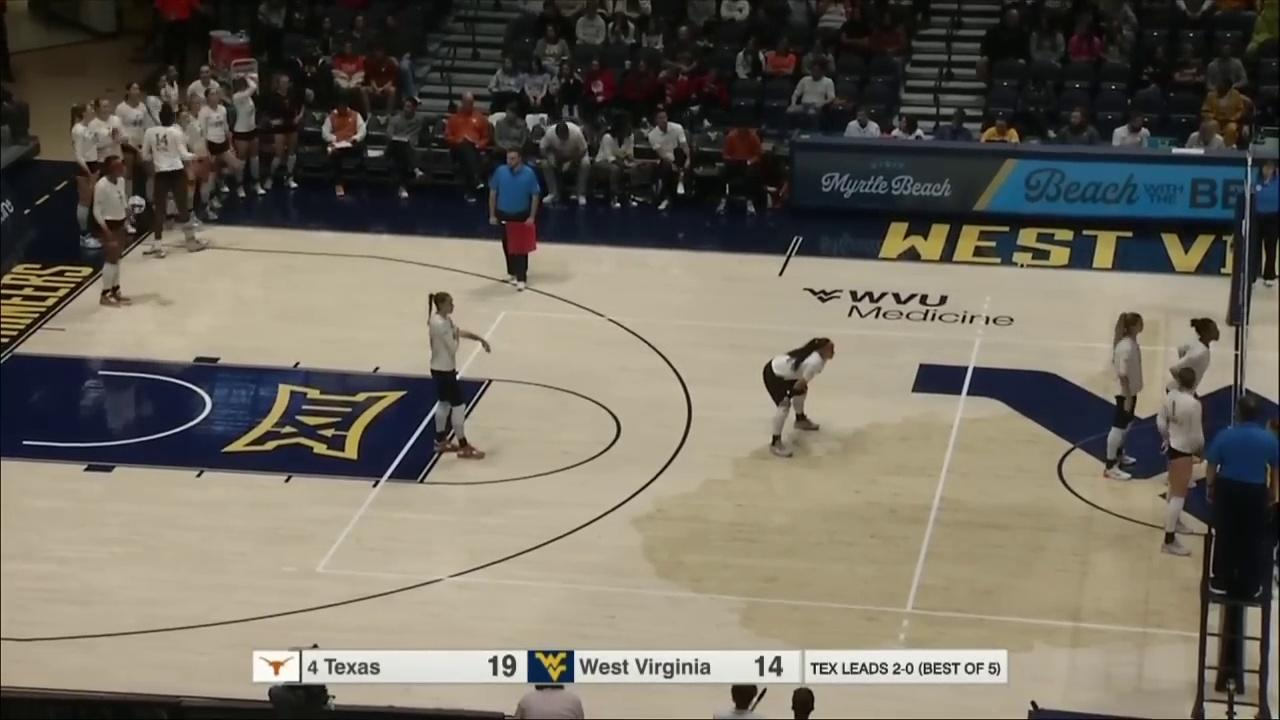player: (429, 292, 493, 458), (1165, 317, 1220, 489), (763, 337, 835, 457), (1160, 369, 1203, 557), (1103, 312, 1145, 475), (91, 156, 132, 308)
refree: (1203, 397, 1280, 597), (488, 149, 539, 292), (1246, 161, 1280, 289)
